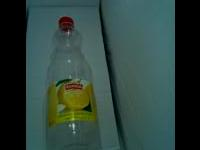bottle: (39, 14, 101, 150)
